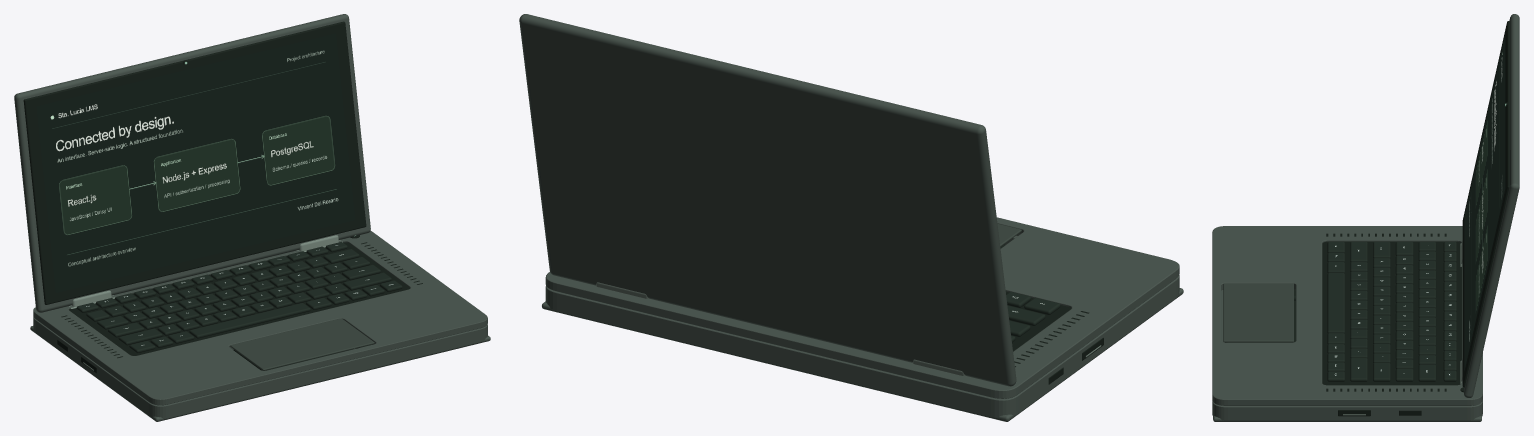
Rendered from project-laptop.glb.
3 views of the same model, side by side, from view 1: azimuth 30°, elevation 25°; view 2: azimuth 150°, elevation 25°; view 3: azimuth 270°, elevation 25° (orthographic). The views are drawn at different scales.
Visible parts, largest first — view 1: Display assembly surfaces, Keyboard and trackpad deck surfaces, Lower chassis and internals surfaces; view 2: Display assembly surfaces, Keyboard and trackpad deck surfaces, Lower chassis and internals surfaces; view 3: Keyboard and trackpad deck surfaces, Display assembly surfaces, Lower chassis and internals surfaces.
Part boxes in pixels (x1,y1,x2,y2): Display assembly surfaces: [14, 14, 370, 312]; Keyboard and trackpad deck surfaces: [33, 231, 487, 405]; Lower chassis and internals surfaces: [30, 240, 490, 421]; Display assembly surfaces: [519, 14, 1016, 386]; Keyboard and trackpad deck surfaces: [545, 217, 1179, 398]; Lower chassis and internals surfaces: [542, 235, 1183, 421]; Keyboard and trackpad deck surfaces: [1212, 226, 1482, 405]; Display assembly surfaces: [1461, 14, 1519, 397]; Lower chassis and internals surfaces: [1212, 243, 1482, 421].
Size of the model in its own units: 3.63 by 2.33 by 2.7.
Materials: 13 (2 with a texture image).
